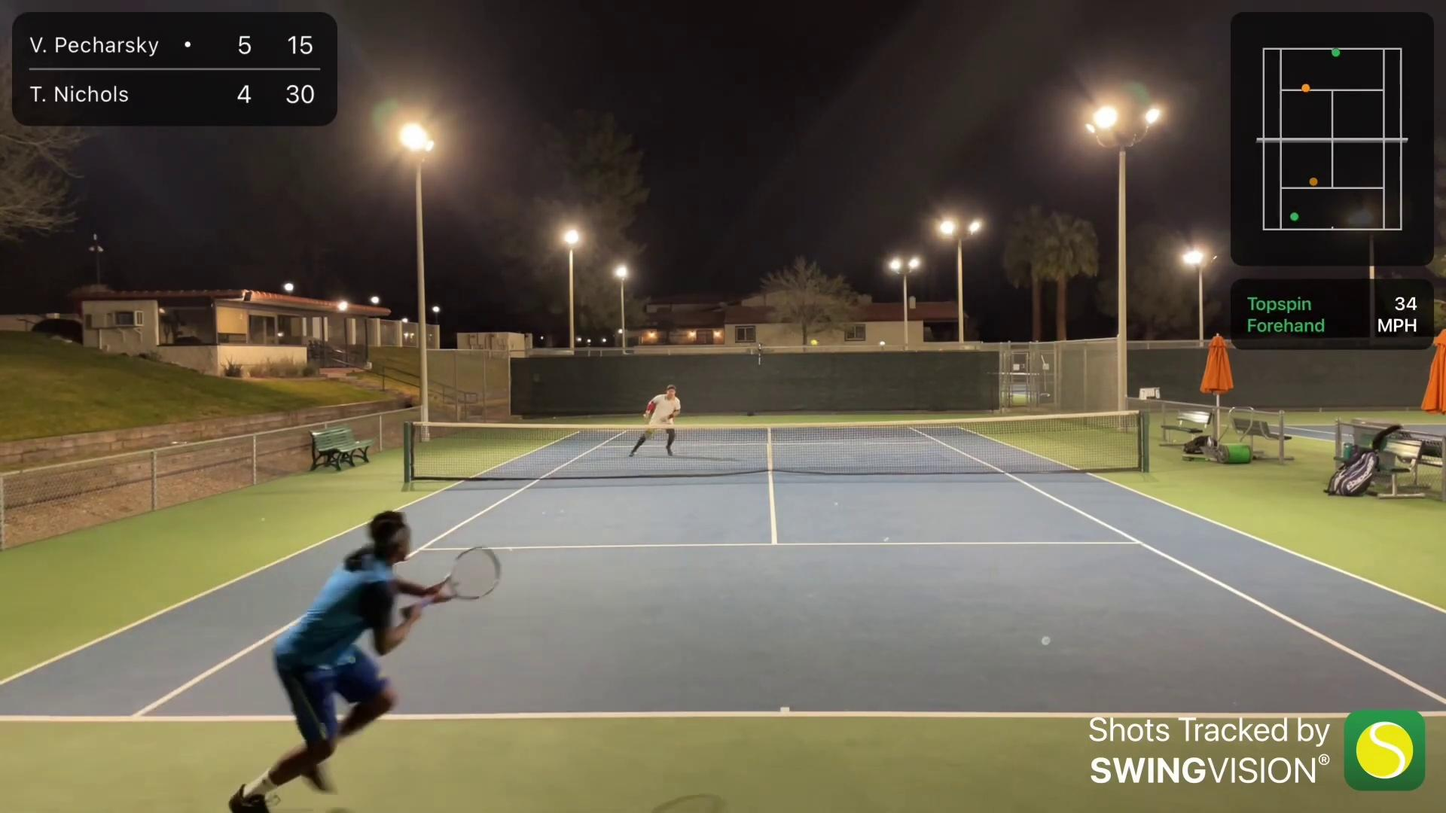ball: (812, 340, 819, 346)
